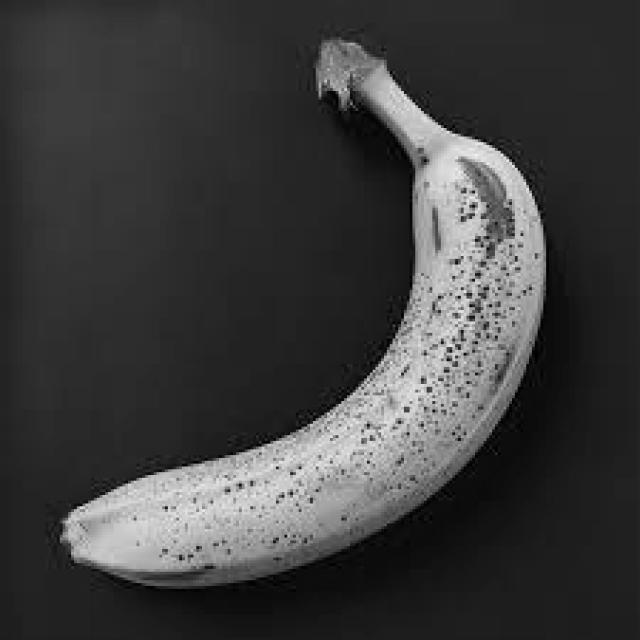Overripe: (21, 13, 596, 612)
